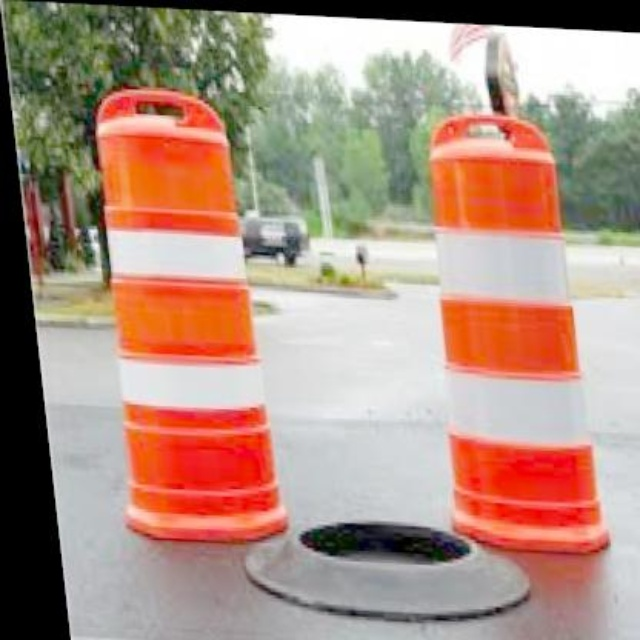obstacle: (60, 75, 289, 563), (410, 86, 608, 562)
